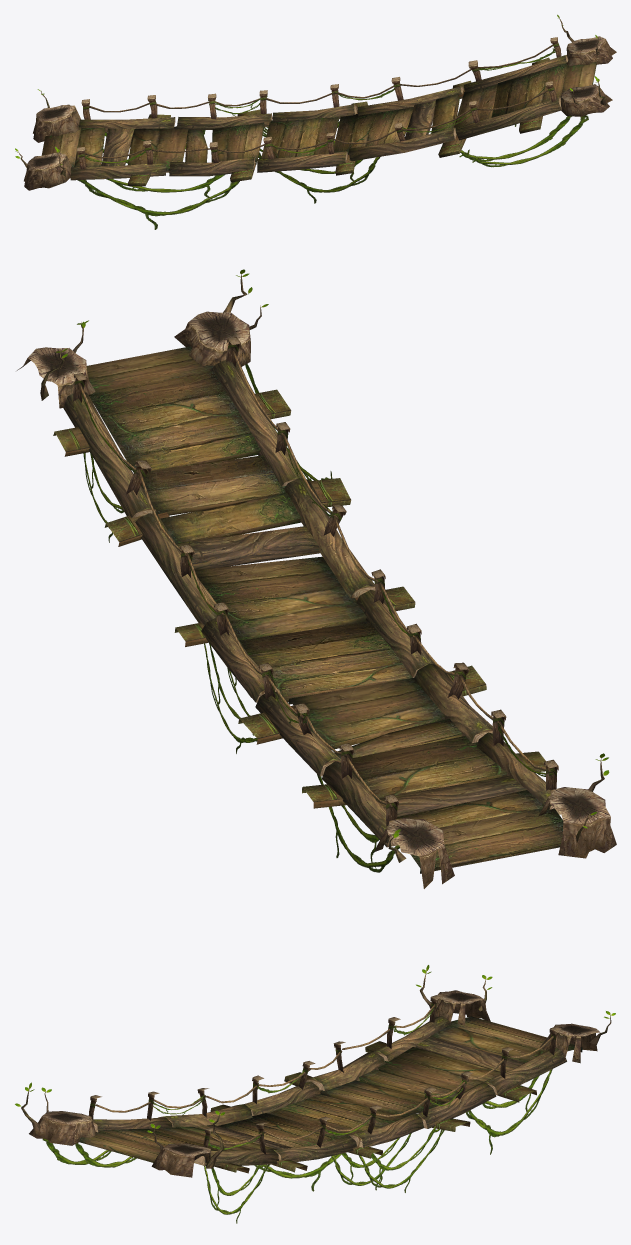
Rendered from S_Build_Village035_1.FBX.
The picture shows the model from 3 angles, top to bottom: view 1: azimuth 30°, elevation 25°; view 2: azimuth 150°, elevation 25°; view 3: azimuth 270°, elevation 25°; orthographic projection. The views are drawn at different scales.
Visible parts, largest first — view 1: S_Build_Village035_1; view 2: S_Build_Village035_1; view 3: S_Build_Village035_1.
Boxes of the visible parts, x1,y1,x2,y2 form: S_Build_Village035_1: (15,14,616,229); S_Build_Village035_1: (17,269,616,888); S_Build_Village035_1: (15,965,615,1223).
Size of the model in its own units: 2899 by 2506 by 1133.
